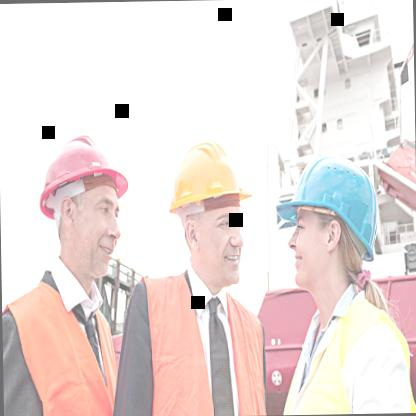helmet: (272, 129, 384, 320), (152, 118, 257, 300), (34, 108, 136, 292)
